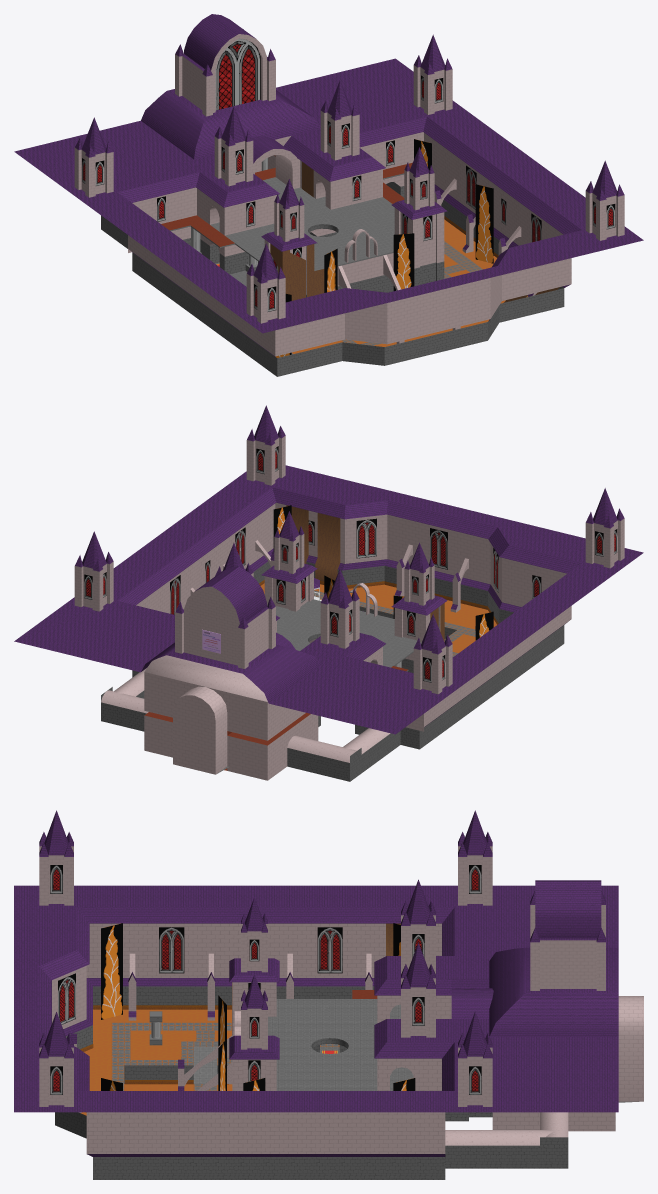
File: weddingquake.min.glb
3 renders of one model, top to bottom at view 1: azimuth 30°, elevation 25°; view 2: azimuth 150°, elevation 25°; view 3: azimuth 270°, elevation 25°, orthographic. The views are drawn at different scales.
Visible parts, largest first — view 1: roof, wallSouth, wallEast, towerMiddle, roofTop, upperFloor, wallWest, buildingEast, buildingWest, towerEast, wallNW, wallNE (+18 smaller); view 2: roof, wallSouth, towerMiddle, wallEast, wallWest, chapelBack, chapelLower, chapelUpper, hallwayWest, upperFloor, roofTop, chapelCeiling (+15 smaller); view 3: roof, wallEast, wallWest, upperFloor, roofTop, towerMiddle, gardenWest, wallSouth, hallwayEast, buildingEast, chapelBack, spire (+19 smaller).
Part boxes in pixels (x1=…): roof: x1=14, y1=58, x2=643, y2=333; wallSouth: x1=275, y1=248, x2=571, y2=376; wallEast: x1=423, y1=117, x2=581, y2=289; towerMiddle: x1=175, y1=14, x2=275, y2=116; roofTop: x1=141, y1=89, x2=320, y2=159; upperFloor: x1=210, y1=177, x2=394, y2=270; wallWest: x1=128, y1=235, x2=277, y2=376; buildingEast: x1=283, y1=136, x2=385, y2=209; buildingWest: x1=196, y1=172, x2=279, y2=235; towerEast: x1=391, y1=200, x2=447, y2=286; wallNW: x1=117, y1=172, x2=199, y2=252; wallNE: x1=359, y1=116, x2=426, y2=197; roof: x1=14, y1=465, x2=643, y2=734; wallSouth: x1=272, y1=487, x2=581, y2=623; towerMiddle: x1=175, y1=566, x2=275, y2=668; wallEast: x1=117, y1=487, x2=275, y2=614; wallWest: x1=419, y1=606, x2=571, y2=748; chapelBack: x1=173, y1=682, x2=227, y2=774; chapelLower: x1=144, y1=714, x2=318, y2=780; chapelUpper: x1=144, y1=672, x2=305, y2=740; hallwayWest: x1=287, y1=728, x2=400, y2=781; upperFloor: x1=267, y1=599, x2=421, y2=667; roofTop: x1=141, y1=642, x2=321, y2=703; chapelCeiling: x1=144, y1=655, x2=267, y2=701; roof: x1=14, y1=885, x2=618, y2=1112; wallEast: x1=86, y1=1112, x2=445, y2=1179; wallWest: x1=77, y1=907, x2=454, y2=1008; upperFloor: x1=268, y1=999, x2=413, y2=1090; roofTop: x1=489, y1=947, x2=618, y2=1036; towerMiddle: x1=530, y1=880, x2=605, y2=990; gardenWest: x1=93, y1=1009, x2=339, y2=1083; wallSouth: x1=39, y1=907, x2=92, y2=1138; hallwayEast: x1=445, y1=1112, x2=568, y2=1168; buildingEast: x1=374, y1=1019, x2=454, y2=1090; chapelBack: x1=618, y1=996, x2=643, y2=1101; spire: x1=458, y1=1012, x2=492, y2=1106.
Bounding box in the file's own units: 40.8 × 19.44 × 47.94.
44 materials, 44 textured.
